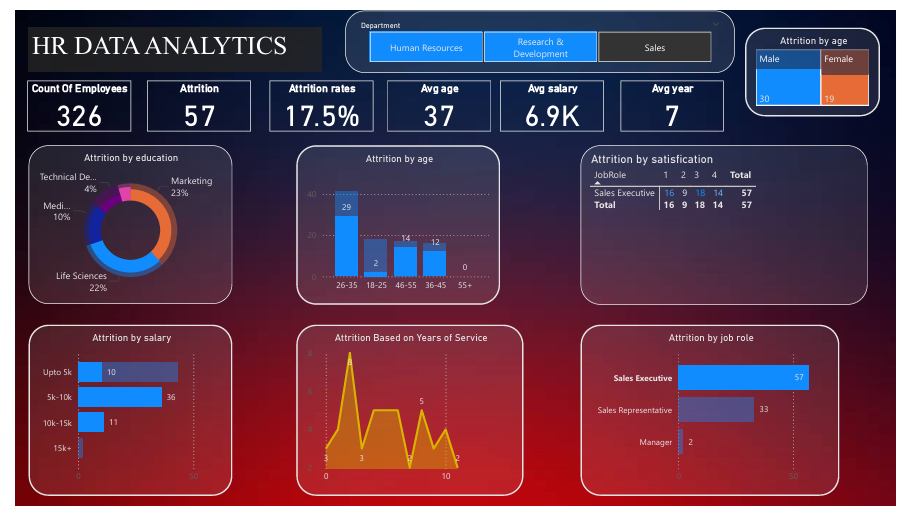

This screenshot's page, from the dashboard's own definition file:
{"tool":"powerbi","page":{"name":"Page 1","canvas":[1280,720],"ordinal":0},"visuals":[{"type":"card","title":"Count Of Employees","fields":{"Values":["CountNonNull(HR_Analytics.EmpID)"]},"box":[16.9,101.6,150.7,74.5],"z":0},{"type":"card","title":"Attrition","fields":{"Values":["Sum(HR_Analytics.AttritionCount)"]},"box":[191.3,101.6,150.7,74.5],"z":1000},{"type":"card","title":"Attrition rates","fields":{"Values":["HR_Analytics.AttritionRates"]},"box":[369.1,101.6,150.7,74.5],"z":2000},{"type":"card","title":"Avg age","fields":{"Values":["Avg(HR_Analytics.Age)"]},"box":[540.1,101.6,150.7,74.5],"z":3000},{"type":"card","title":"Avg salary","fields":{"Values":["Avg(HR_Analytics.MonthlyIncome)"]},"box":[704.3,101.6,150.7,74.5],"z":4000},{"type":"card","title":"Avg year","fields":{"Values":["Avg(HR_Analytics.YearsAtCompany)"]},"box":[878.7,101.6,150.7,74.5],"z":5000},{"type":"donutChart","title":"Attrition by education","fields":{"Category":["HR_Analytics.EducationField"],"Y":["Sum(HR_Analytics.AttritionCount)"]},"box":[18.6,196.4,296.3,230.3],"z":6000},{"type":"columnChart","title":"Attrition by age","fields":{"Category":["HR_Analytics.AgeGroup"],"Y":["Sum(HR_Analytics.AttritionCount)"]},"box":[408,196.4,296.3,232],"z":7000},{"type":"pivotTable","title":"Attrition by satisfication","fields":{"Rows":["HR_Analytics.JobRole"],"Columns":["HR_Analytics.JobSatisfaction"],"Values":["Sum(HR_Analytics.AttritionCount)"]},"box":[821.2,196.4,416.5,232],"z":7001},{"type":"barChart","title":"Attrition by salary","fields":{"Category":["HR_Analytics.SalarySlab"],"Y":["Sum(HR_Analytics.AttritionCount)"]},"box":[18.6,457.1,296.3,248.9],"z":7002},{"type":"barChart","title":"Attrition by job role","fields":{"Category":["HR_Analytics.JobRole"],"Y":["Sum(HR_Analytics.AttritionCount)"]},"box":[821.2,457.1,375.9,248.9],"z":7003},{"type":"areaChart","title":"Attrition Based on Years of Service","fields":{"Category":["HR_Analytics.YearsAtCompany"],"Y":["Sum(HR_Analytics.AttritionCount)"]},"box":[408,457.1,330.2,248.9],"z":7004},{"type":"treemap","title":"Attrition by age","fields":{"Group":["HR_Analytics.Gender"],"Values":["Sum(HR_Analytics.AttritionCount)"]},"box":[1059.9,25.4,196.4,128.7],"z":7005},{"type":"slicer","fields":{"Values":["HR_Analytics.Department"]},"box":[479.2,0,565.5,91.4],"z":7006},{"type":"textbox","box":[18.6,25.4,426.7,64.3],"z":7007}]}

Visuals, with their boxes in screenshot pixels (x1, y1, x2, y2), scaled from the page's 1280x720 canvas onto the 913x513 screenshot:
"Count Of Employees" card: [12,72,120,125]
"Attrition" card: [136,72,244,125]
"Attrition rates" card: [263,72,371,125]
"Avg age" card: [385,72,493,125]
"Avg salary" card: [502,72,610,125]
"Avg year" card: [627,72,734,125]
"Attrition by education" donutChart: [13,140,225,304]
"Attrition by age" columnChart: [291,140,502,305]
"Attrition by satisfication" pivotTable: [586,140,883,305]
"Attrition by salary" barChart: [13,326,225,503]
"Attrition by job role" barChart: [586,326,854,503]
"Attrition Based on Years of Service" areaChart: [291,326,527,503]
"Attrition by age" treemap: [756,18,896,110]
slicer - HR_Analytics.Department: [342,0,745,65]
textbox: [13,18,318,64]
